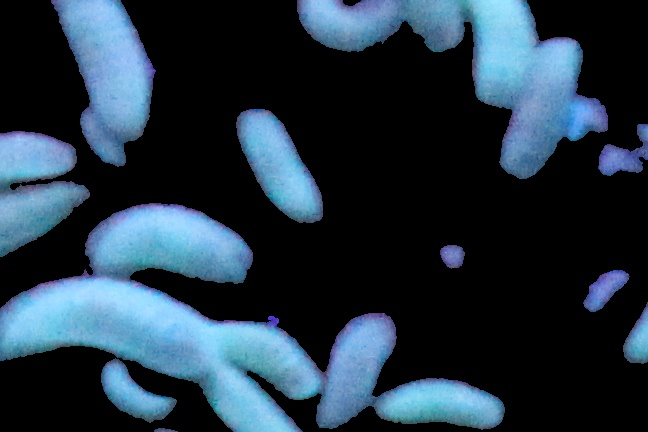larvae: (1, 278, 217, 377), (55, 1, 177, 136), (84, 201, 256, 277), (498, 41, 595, 175), (236, 106, 326, 222), (315, 308, 395, 432), (217, 318, 325, 396), (462, 1, 538, 109), (372, 370, 506, 431), (200, 365, 301, 432), (1, 182, 85, 255), (294, 1, 407, 53), (1, 120, 72, 182), (78, 111, 126, 167)
